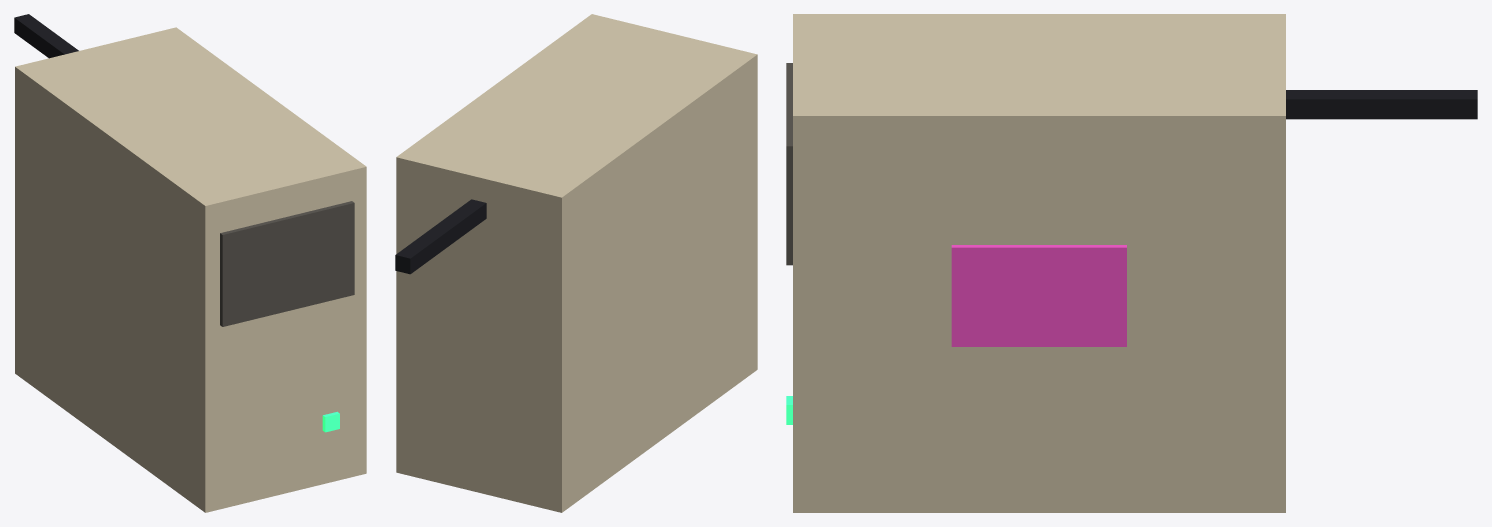
File: karaoke_lyrics_pc.glb
3 views of the same model, side by side, from view 1: azimuth 30°, elevation 25°; view 2: azimuth 150°, elevation 25°; view 3: azimuth 270°, elevation 25° (orthographic). The views are drawn at different scales.
Parts seen in each view (by area): view 1: tower_pc_beige, front_pc_front, cable_pc_cable; view 2: tower_pc_beige, cable_pc_cable; view 3: tower_pc_beige, sticker_pc_sticker, cable_pc_cable, front_pc_front.
Part boxes in pixels (left/top/right/bottom): tower_pc_beige: left=15, top=27, right=366, bottom=512; front_pc_front: left=220, top=201, right=354, bottom=326; cable_pc_cable: left=14, top=14, right=78, bottom=58; tower_pc_beige: left=396, top=14, right=757, bottom=512; cable_pc_cable: left=395, top=199, right=486, bottom=274; tower_pc_beige: left=793, top=14, right=1285, bottom=512; sticker_pc_sticker: left=951, top=245, right=1126, bottom=346; cable_pc_cable: left=1286, top=90, right=1477, bottom=119; front_pc_front: left=786, top=63, right=792, bottom=265.
Bounding box in the file's own units: 0.226 × 0.4 × 0.631.
